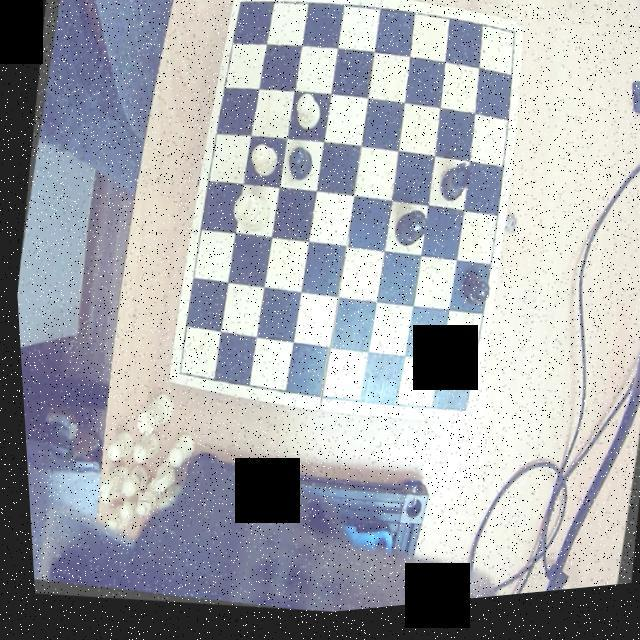chess-table-corners: (443, 400, 470, 431), (165, 363, 191, 391), (498, 28, 520, 55), (230, 0, 252, 26)
